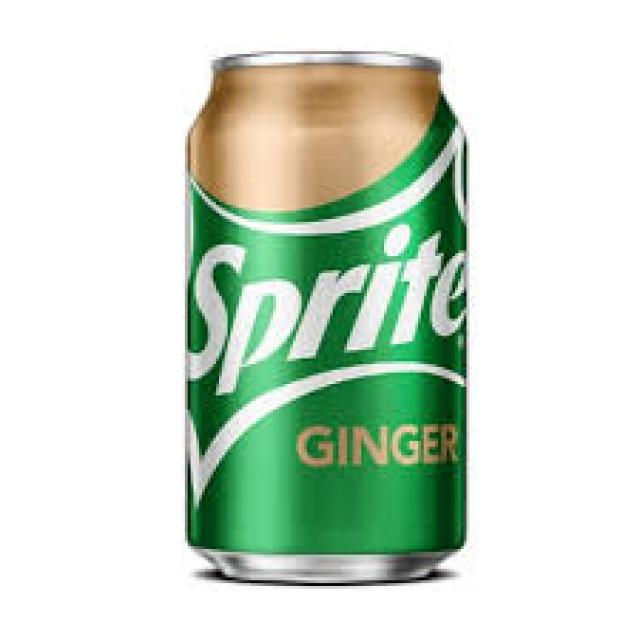aluminum_can: (188, 57, 466, 585)
